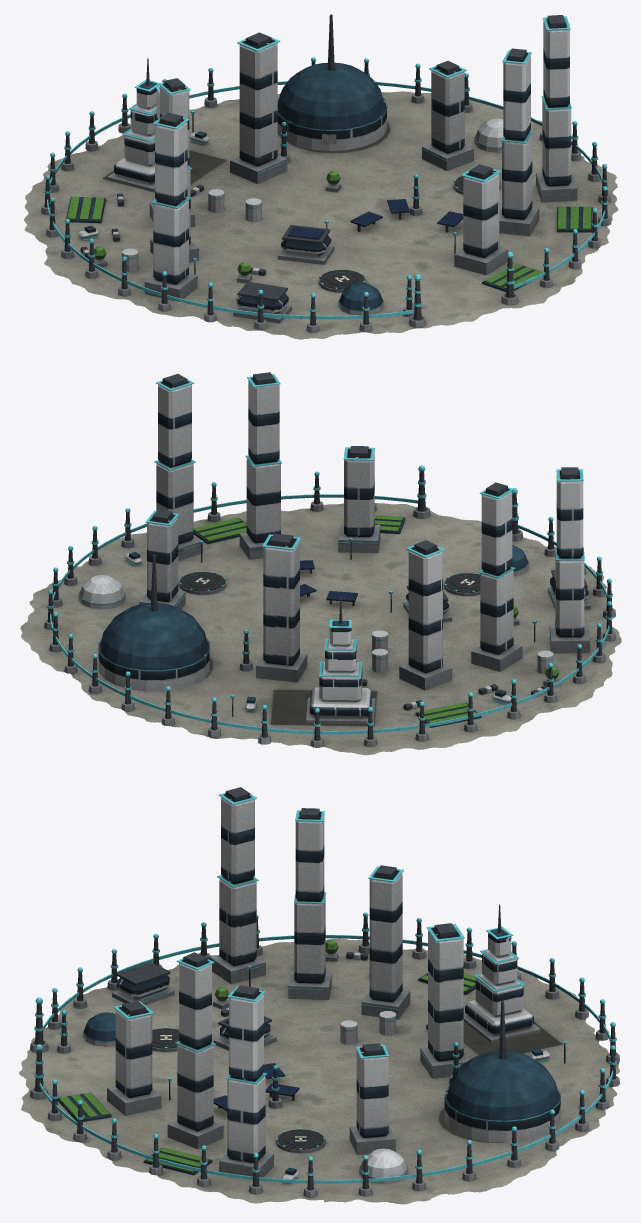
File: future-town-medium-a.glb
The picture shows the model from 3 angles, top to bottom: view 1: azimuth 30°, elevation 25°; view 2: azimuth 150°, elevation 25°; view 3: azimuth 270°, elevation 25°; orthographic projection. The views are drawn at different scales.
Parts seen in each view (by area): view 1: LOD0; view 2: LOD0; view 3: LOD0.
Boxes of the visible parts, x1,y1,x2,y2 form: LOD0: [24, 14, 618, 339]; LOD0: [20, 372, 621, 755]; LOD0: [19, 787, 619, 1204].
Size of what is drawn, in the model's own units: 6 by 1.88 by 5.7.
Materials: 3 (3 with a texture image).
